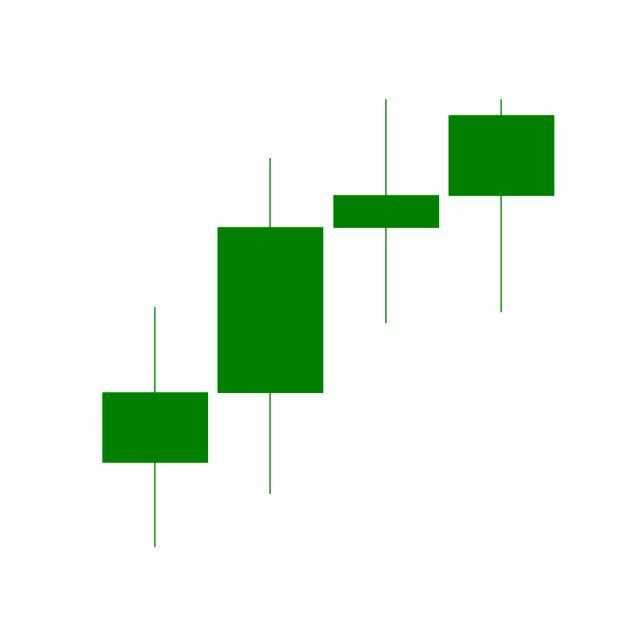Spinning Top: (329, 96, 445, 326)
